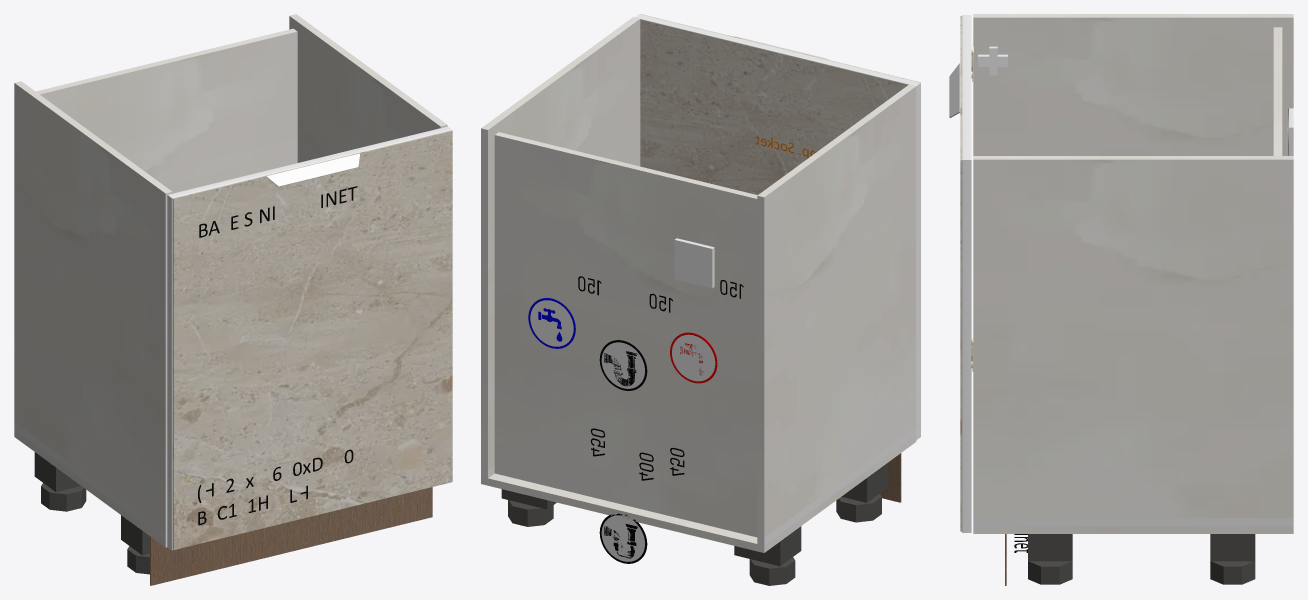
File: BSC1HS_LH_EH (H720xW600xD560).glb
The picture shows the model from 3 angles, left to right: view 1: azimuth 30°, elevation 25°; view 2: azimuth 150°, elevation 25°; view 3: azimuth 270°, elevation 25°; orthographic projection. The views are drawn at different scales.
Size of what is drawn, in the model's own units: 0.6 by 0.82 by 0.6.
16 materials, 3 textured.
